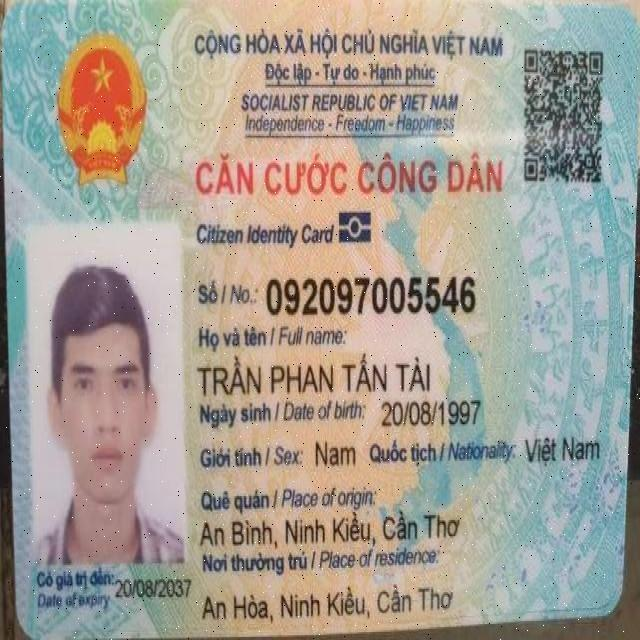current_place: (187, 585, 462, 621)
dob: (375, 401, 491, 437)
expire_date: (107, 571, 195, 613)
gender: (307, 437, 361, 475)
id: (261, 268, 485, 322)
name: (188, 355, 472, 398)
nationality: (517, 426, 611, 474)
origin_place: (184, 510, 472, 546)
